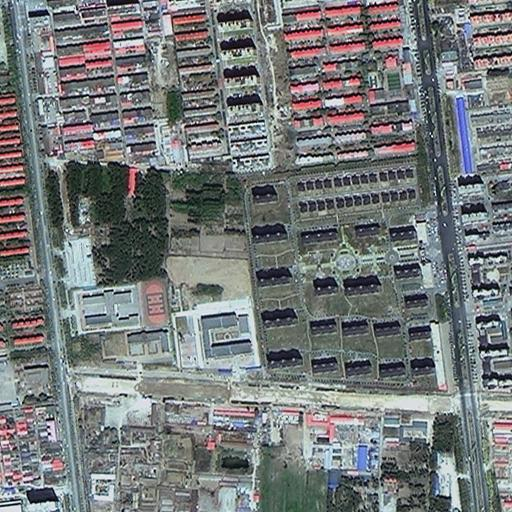school: (69, 279, 169, 358), (172, 298, 262, 372)
